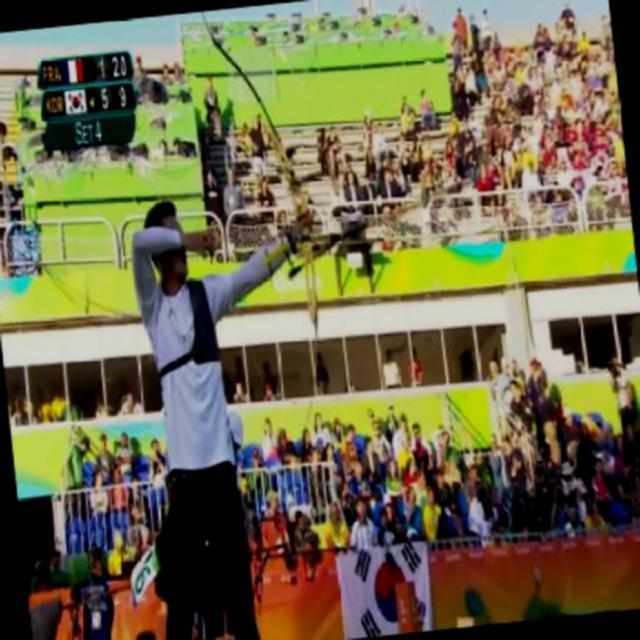non-fight: (122, 192, 270, 638)
